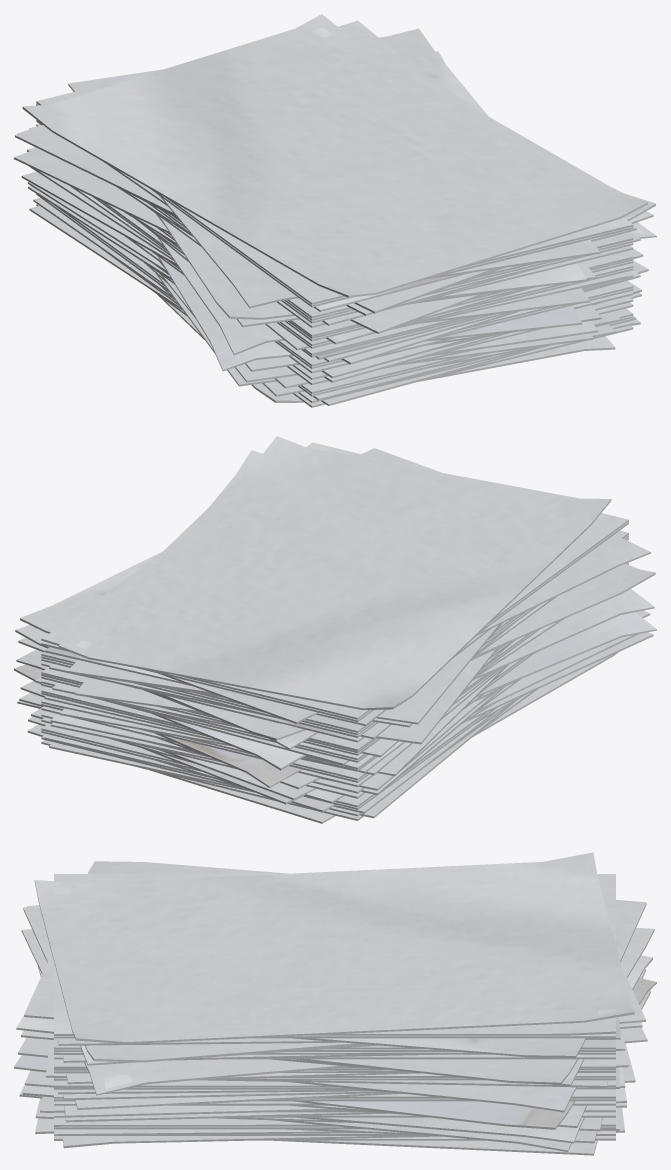
File: Kağıtlar.fbx
3 views of the same model, one above another, from view 1: azimuth 30°, elevation 25°; view 2: azimuth 150°, elevation 25°; view 3: azimuth 270°, elevation 25° (orthographic). The views are drawn at different scales.
Parts seen in each view (by area): view 1: Kağıtlar; view 2: Kağıtlar; view 3: Kağıtlar.
Boxes of the visible parts, bbox=[...] form: Kağıtlar: bbox=[14, 14, 656, 407]; Kağıtlar: bbox=[14, 436, 656, 823]; Kağıtlar: bbox=[14, 852, 656, 1155].
Bounding box in the file's own units: 27.34 × 7.2 × 34.1.
1 material, 1 textured.
